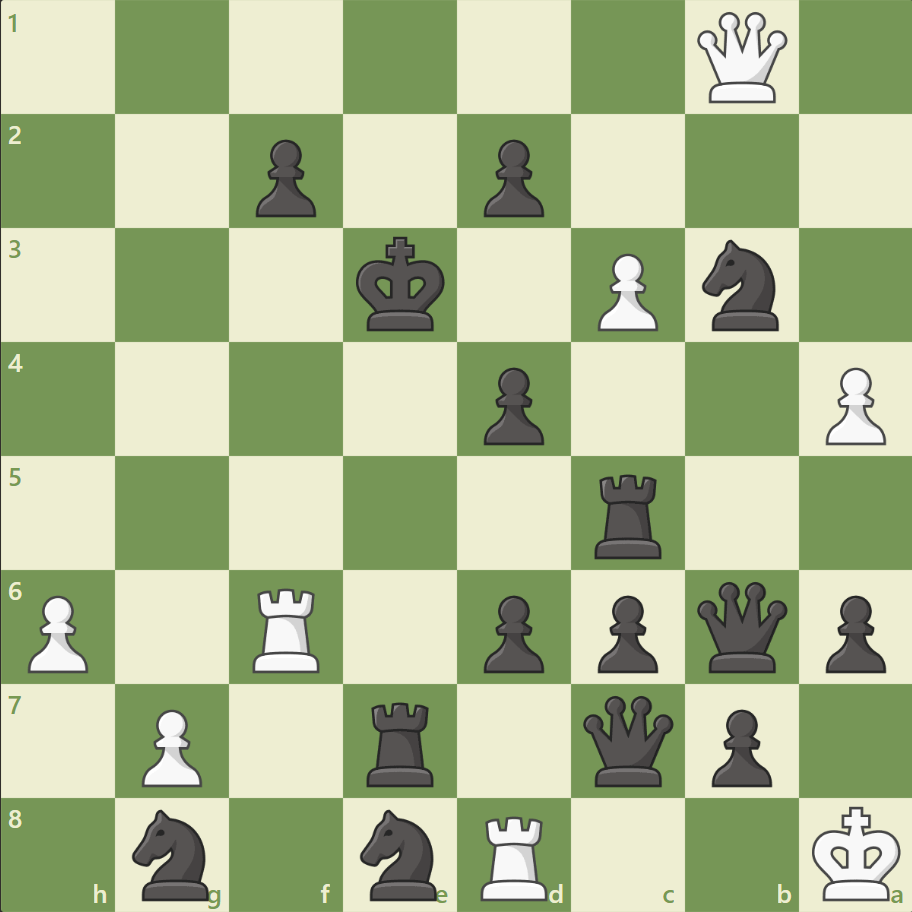K: (806, 798, 906, 906)
P: (133, 700, 208, 791), (20, 586, 95, 677), (815, 359, 889, 450), (588, 246, 662, 337)
Q: (691, 9, 790, 108)
R: (473, 806, 556, 904), (246, 579, 329, 676)
k: (351, 231, 451, 339)
n: (351, 802, 449, 904), (124, 802, 222, 904), (692, 234, 789, 337)
p: (701, 700, 776, 791), (474, 586, 549, 677), (474, 359, 549, 450), (474, 132, 549, 223), (247, 132, 322, 223), (815, 586, 889, 677), (588, 586, 662, 677)
q: (691, 576, 790, 676), (578, 690, 677, 789)
r: (587, 466, 670, 563), (360, 693, 442, 790)
